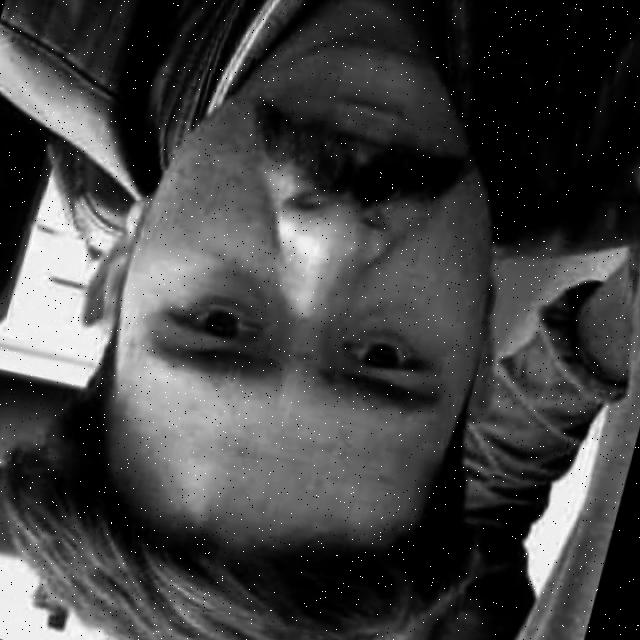puffy_eyes: (204, 264, 267, 299)
